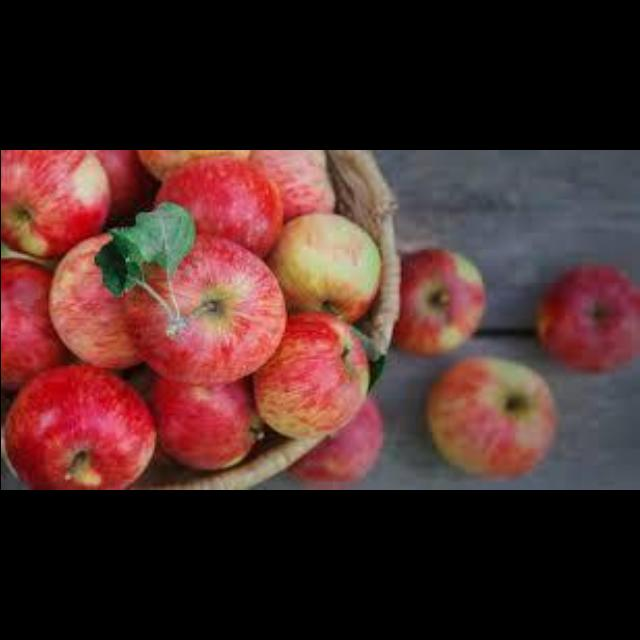apple: (125, 235, 283, 383), (6, 366, 154, 489), (424, 356, 555, 478), (254, 312, 368, 437), (154, 156, 281, 256), (266, 212, 380, 320), (48, 235, 139, 368), (0, 150, 108, 256), (536, 264, 638, 372), (150, 376, 260, 470), (393, 250, 484, 354), (0, 258, 66, 389), (249, 150, 332, 219)
